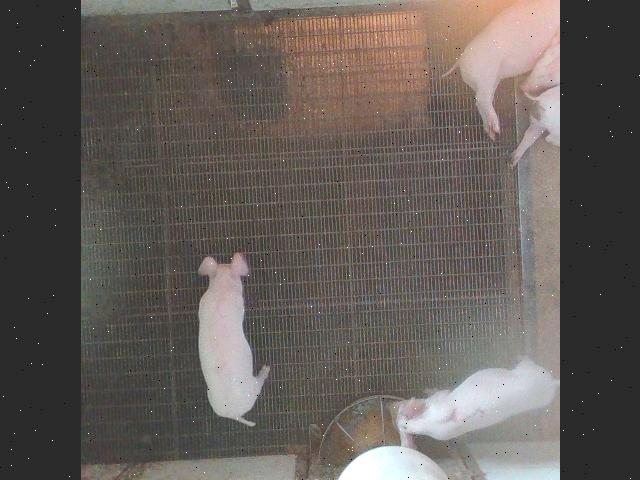pig-5: (385, 359, 558, 448)
